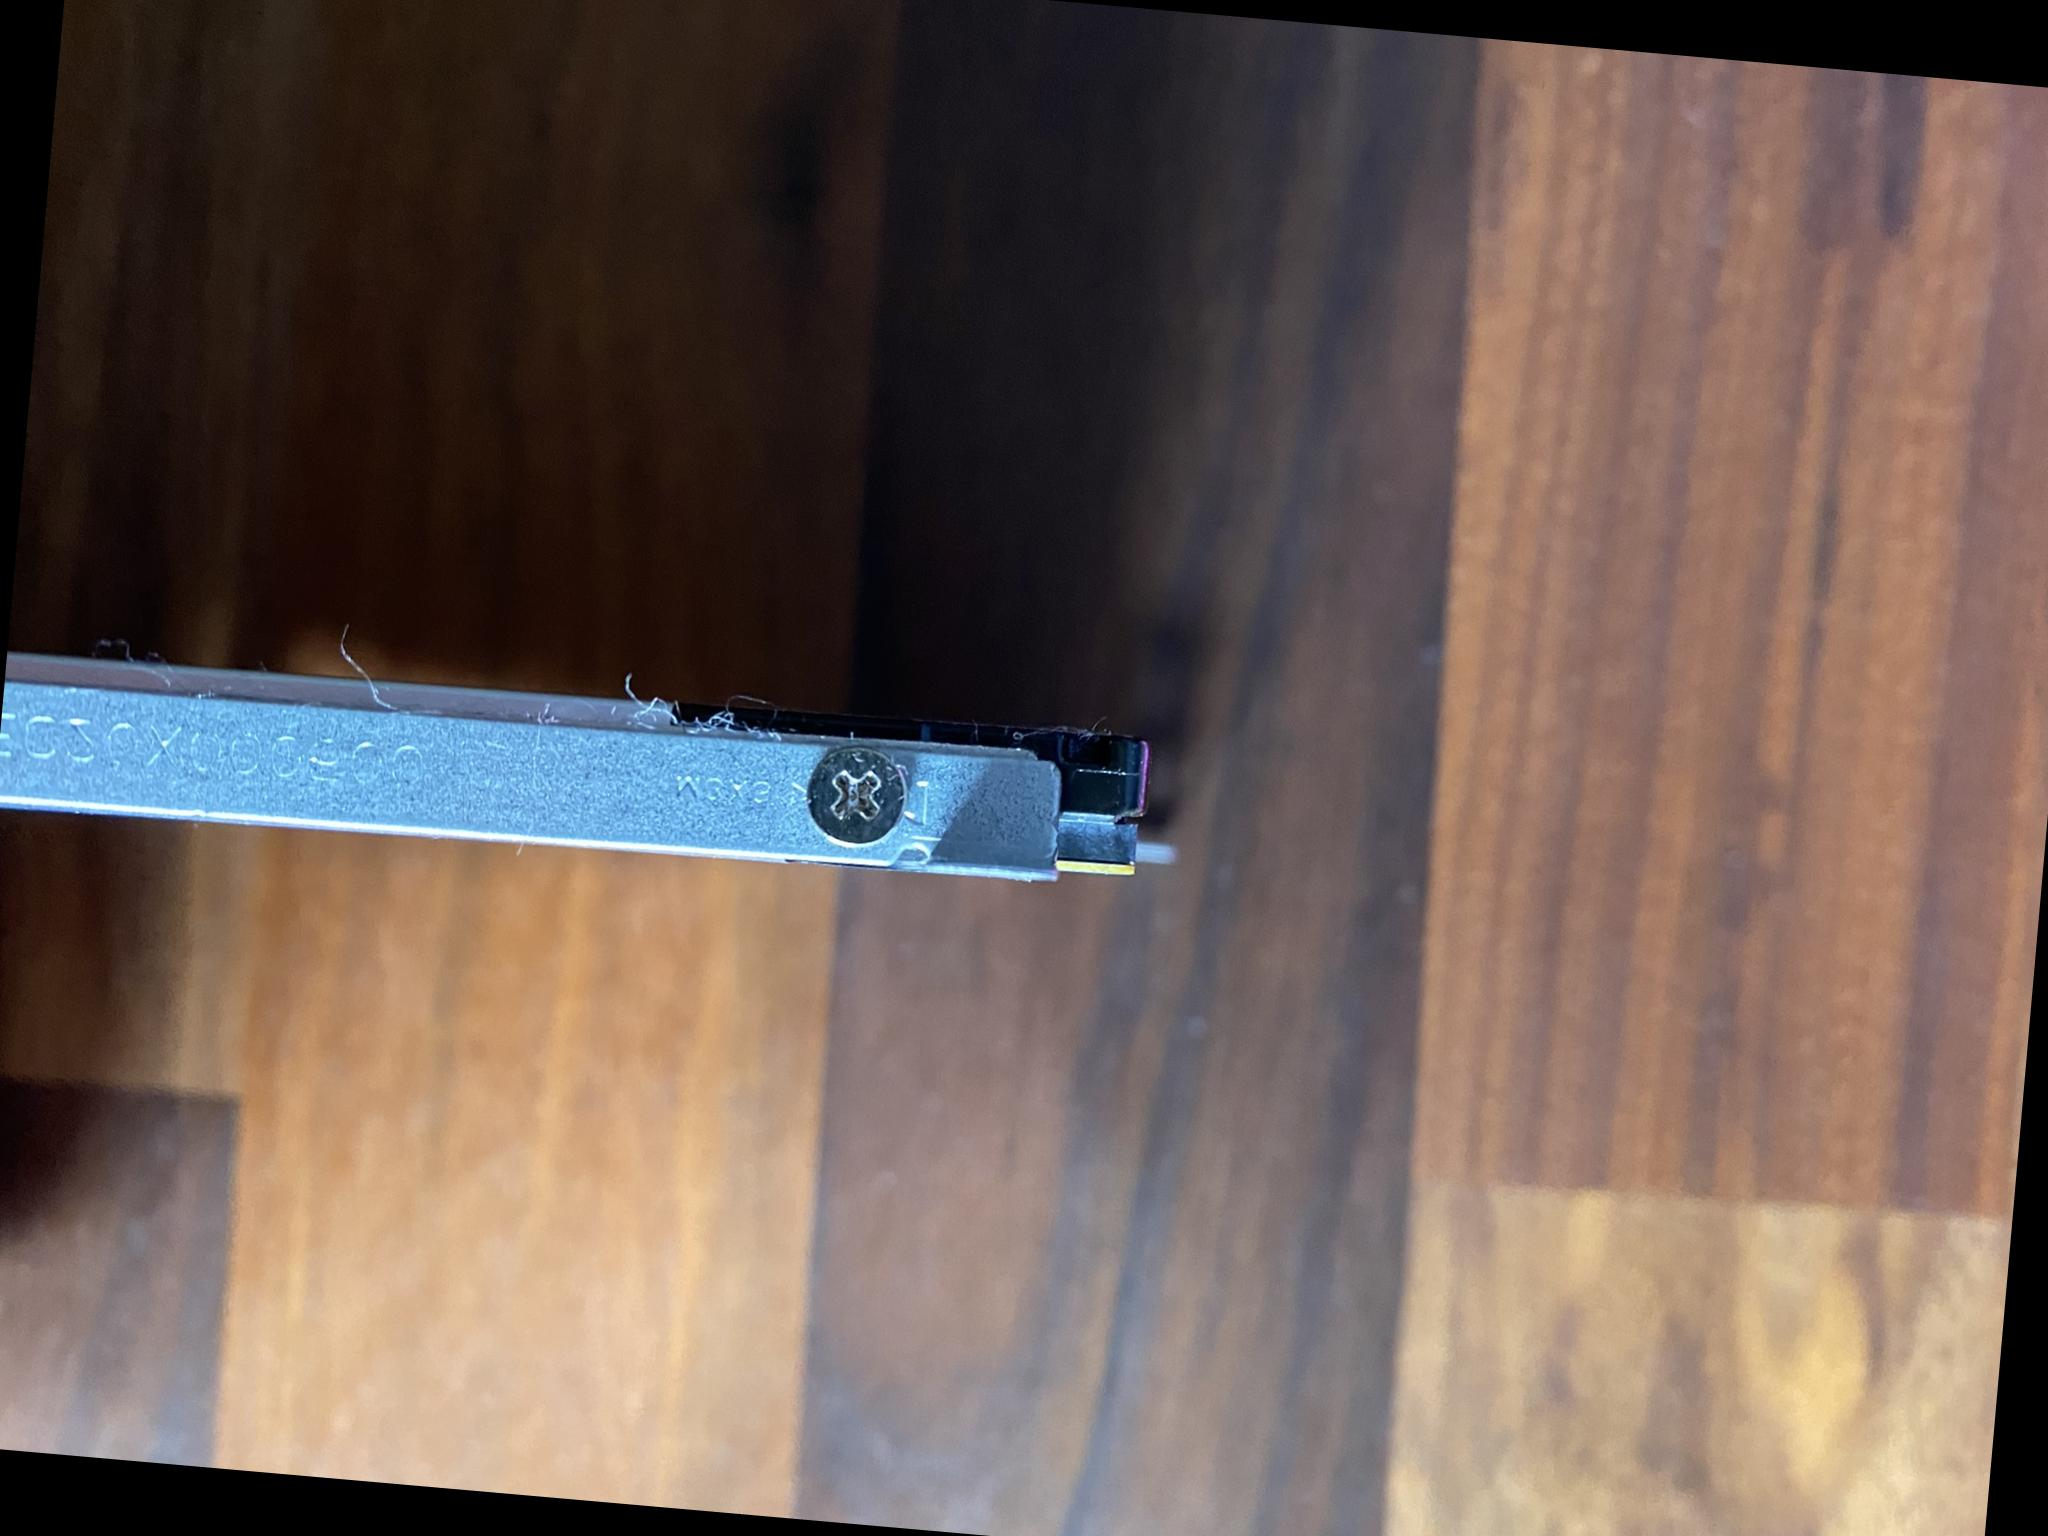PH: (793, 736, 914, 852)
